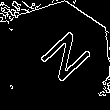N_SW: (24, 24, 89, 88)
